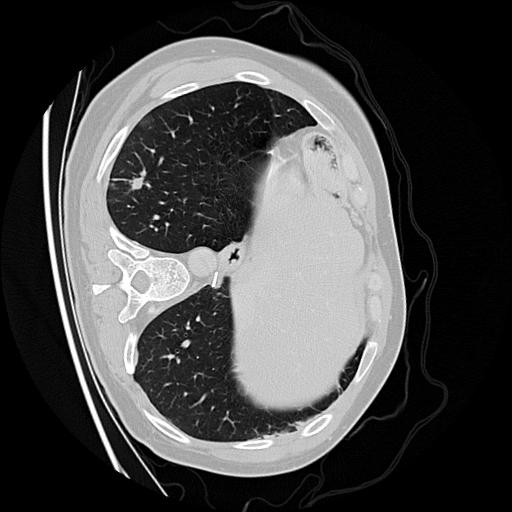nodule: (129, 175, 149, 195)
